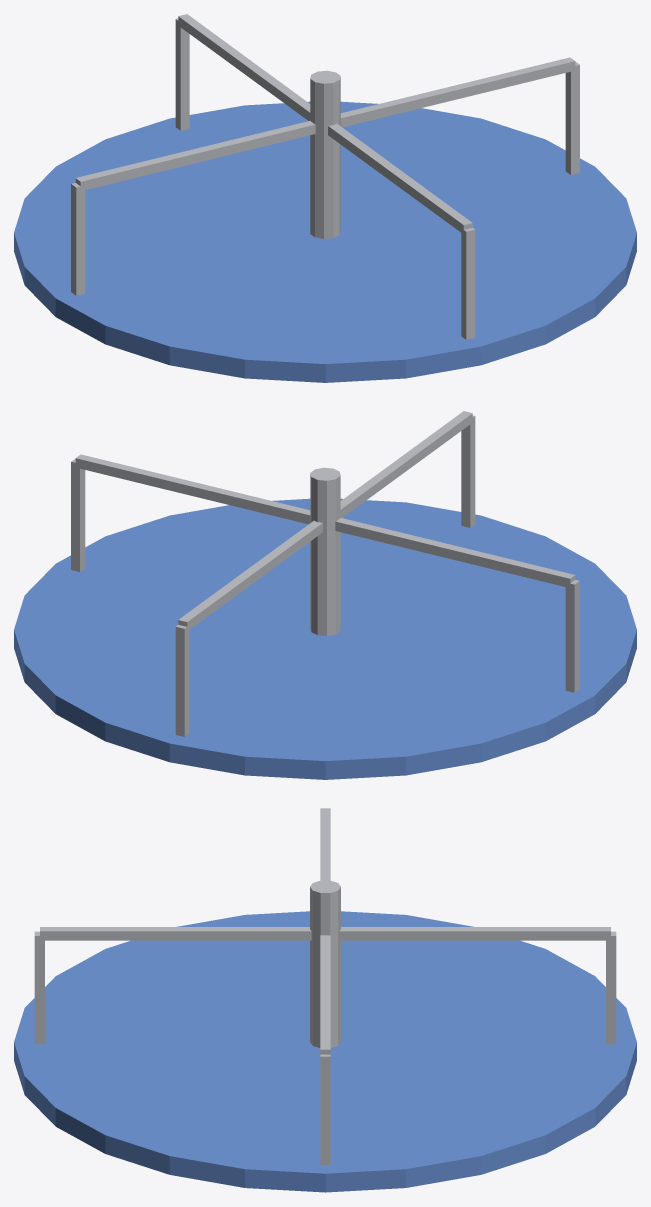
Rendered from dm_carousel.glb.
3 views of the same model, one above another, from view 1: azimuth 30°, elevation 25°; view 2: azimuth 150°, elevation 25°; view 3: azimuth 270°, elevation 25° (orthographic).
Visible parts, largest first — view 1: Carousel; view 2: Carousel; view 3: Carousel.
Part boxes in pixels (x1,y1,x2,y2): Carousel: [14, 14, 636, 382]; Carousel: [14, 411, 636, 779]; Carousel: [14, 808, 636, 1192].
Size of the model in its own units: 2.4 by 0.9 by 2.4.
